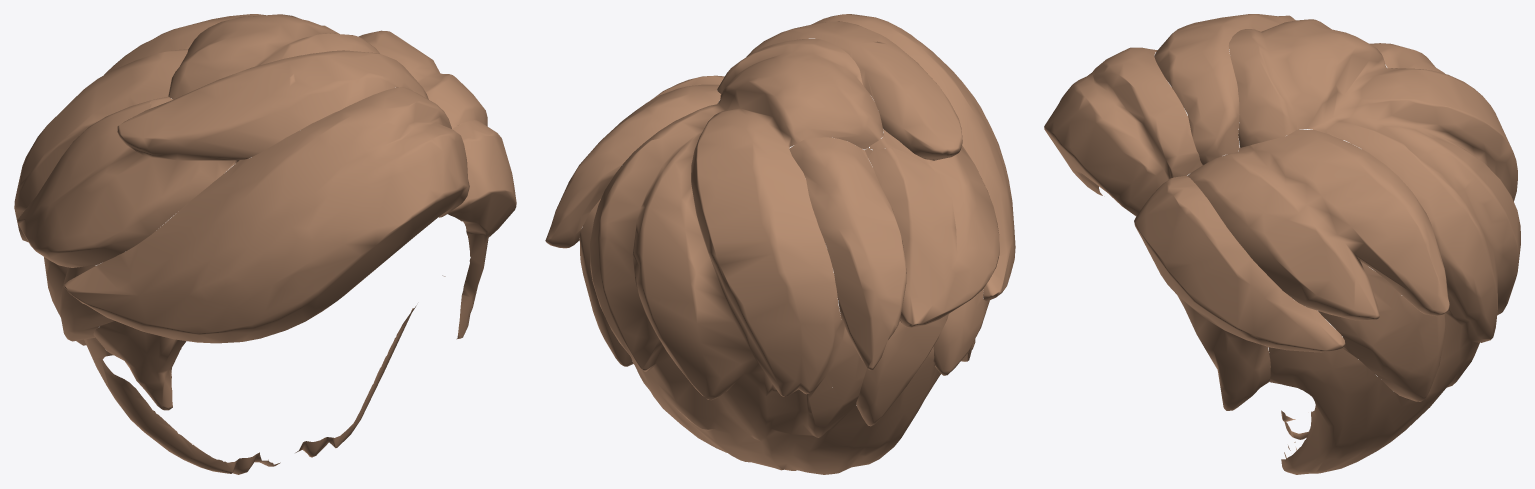
Rendered from hair_03.glb.
3 renders of one model, left to right at view 1: azimuth 30°, elevation 25°; view 2: azimuth 150°, elevation 25°; view 3: azimuth 270°, elevation 25°, orthographic. The views are drawn at different scales.
Visible parts, largest first — view 1: hair; view 2: hair; view 3: hair.
Boxes of the visible parts, bbox=[...] form: hair: bbox=[14, 14, 516, 474]; hair: bbox=[545, 14, 1015, 474]; hair: bbox=[1044, 14, 1520, 474].
Bounding box in the file's own units: 0.5078 × 0.4991 × 0.508.
